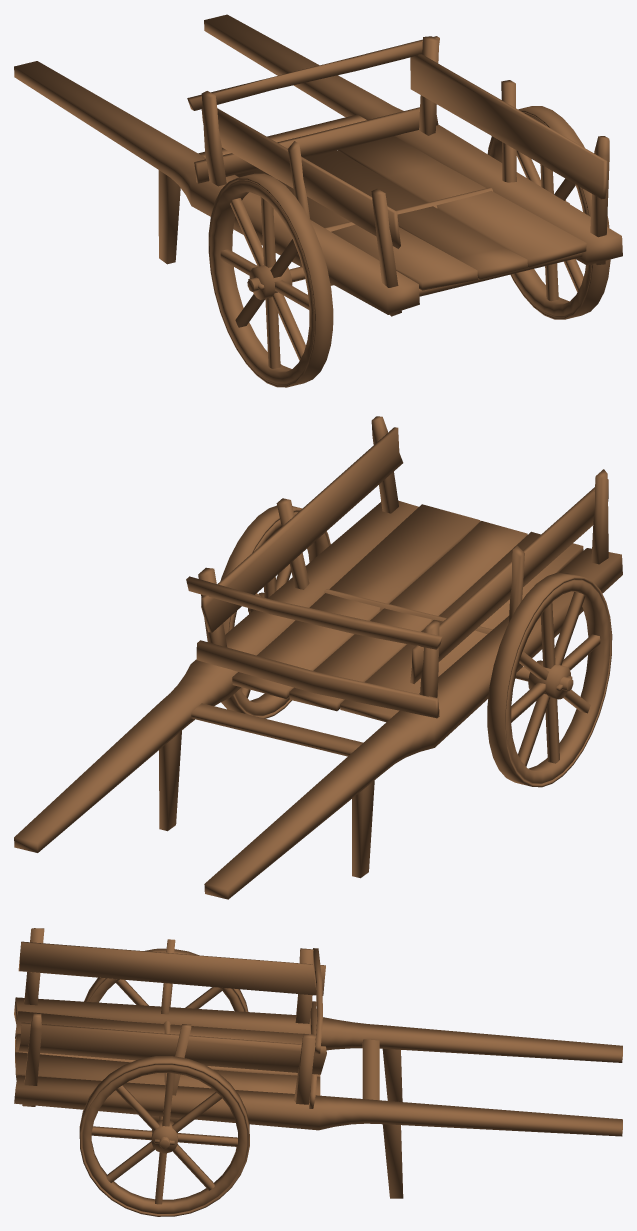
Rendered from S_MedievalCart.fbx.
3 renders of one model, top to bottom at view 1: azimuth 30°, elevation 25°; view 2: azimuth 150°, elevation 25°; view 3: azimuth 270°, elevation 25°, orthographic. The views are drawn at different scales.
Visible parts, largest first — view 1: Cube.003; view 2: Cube.003; view 3: Cube.003.
Part boxes in pixels (box(x1,y1,x2,y2)): Cube.003: box(14, 14, 622, 387); Cube.003: box(14, 416, 622, 899); Cube.003: box(14, 928, 622, 1216).
Size of the model in its own units: 288 by 206 by 602.
